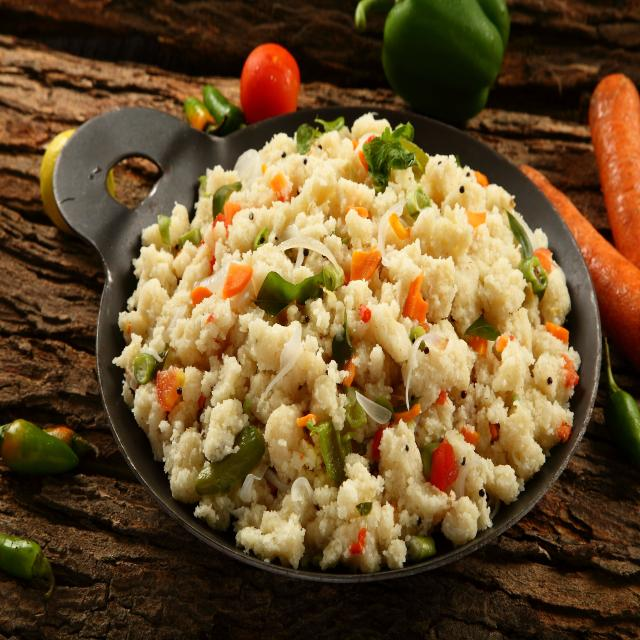UPMA: (121, 113, 579, 572)
